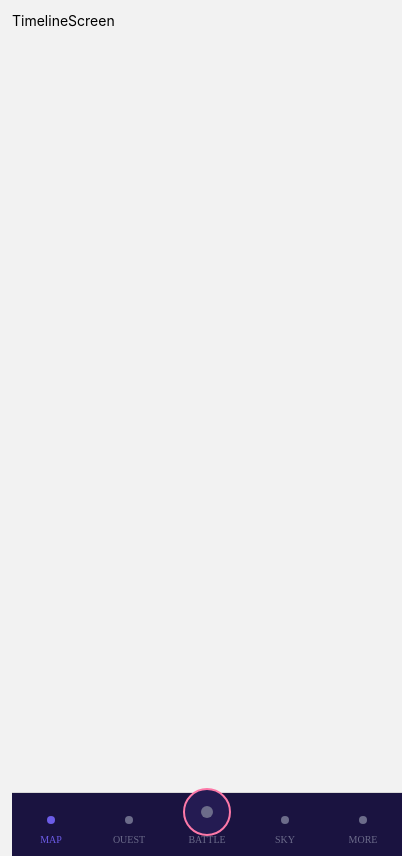
Test case: MainTab › switches to SKY tab and shows EmotionCalendarScreen
Click the tab with aria-label "감정 날씨": (285, 820) [275, 816, 295, 845]
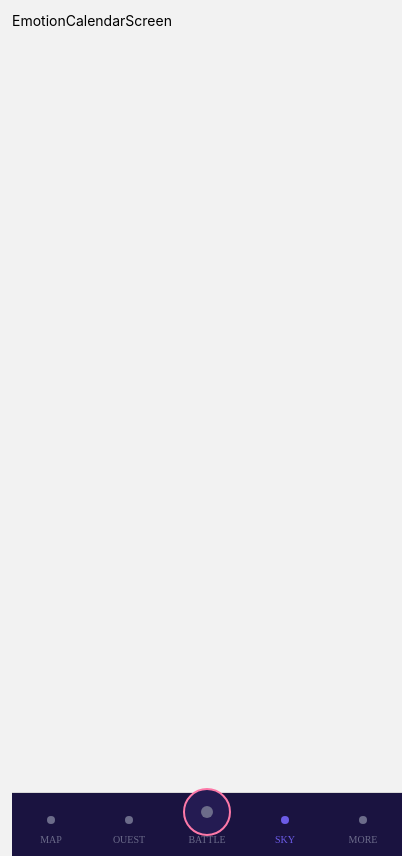
Check: the text "EmotionCalendarScreen" is shown, box [12, 12, 172, 29]
